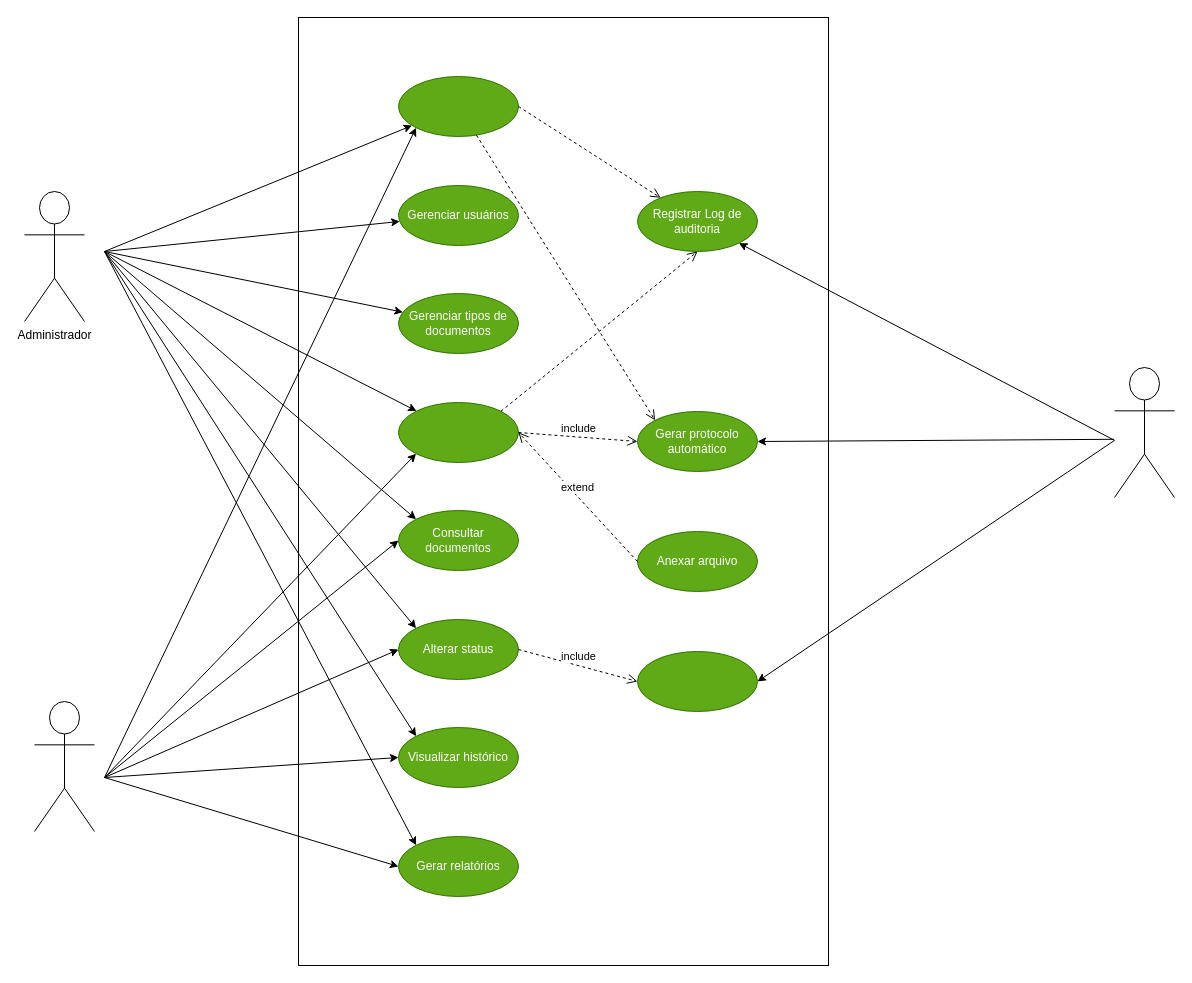
The diagram is 1192 pixels wide and 983 high, and some of its shapes have lost their labels. The shapes that lost their labels are listed below. From the top down, each one's box as (x1, y1, x2, y2) in pixels, then its label:
(398, 76, 518, 136): Efetuar Login
(398, 402, 518, 462): Registrar documentos
(1114, 366, 1174, 498): Sistema
(636, 650, 758, 712): Atualizar histórico de movimentação
(34, 700, 94, 832): Operador
